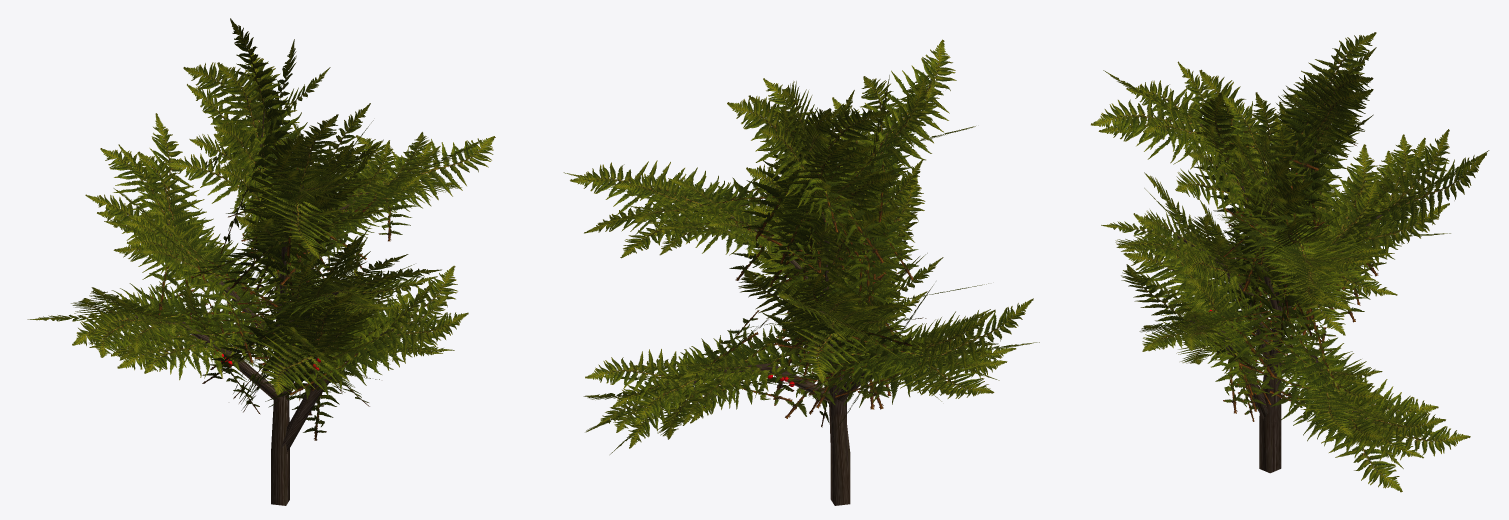
File: BerryTree.fbx
3 renders of one model, left to right at view 1: azimuth 30°, elevation 25°; view 2: azimuth 150°, elevation 25°; view 3: azimuth 270°, elevation 25°, orthographic. The views are drawn at different scales.
Visible parts, largest first — view 1: leafs|Texture_BerryTree_Leaf|Dupli|199, Tree; view 2: leafs|Texture_BerryTree_Leaf|Dupli|199, Tree; view 3: leafs|Texture_BerryTree_Leaf|Dupli|199, Tree.
Part boxes in pixels (x1,y1,x2,y2): leafs|Texture_BerryTree_Leaf|Dupli|199: (27,18,495,440); Tree: (135,111,393,505); leafs|Texture_BerryTree_Leaf|Dupli|199: (563,39,1039,454); Tree: (673,125,930,505); leafs|Texture_BerryTree_Leaf|Dupli|199: (1091,32,1489,492); Tree: (1177,121,1406,473).
Bounding box in the file's own units: 979 × 921 × 763.
